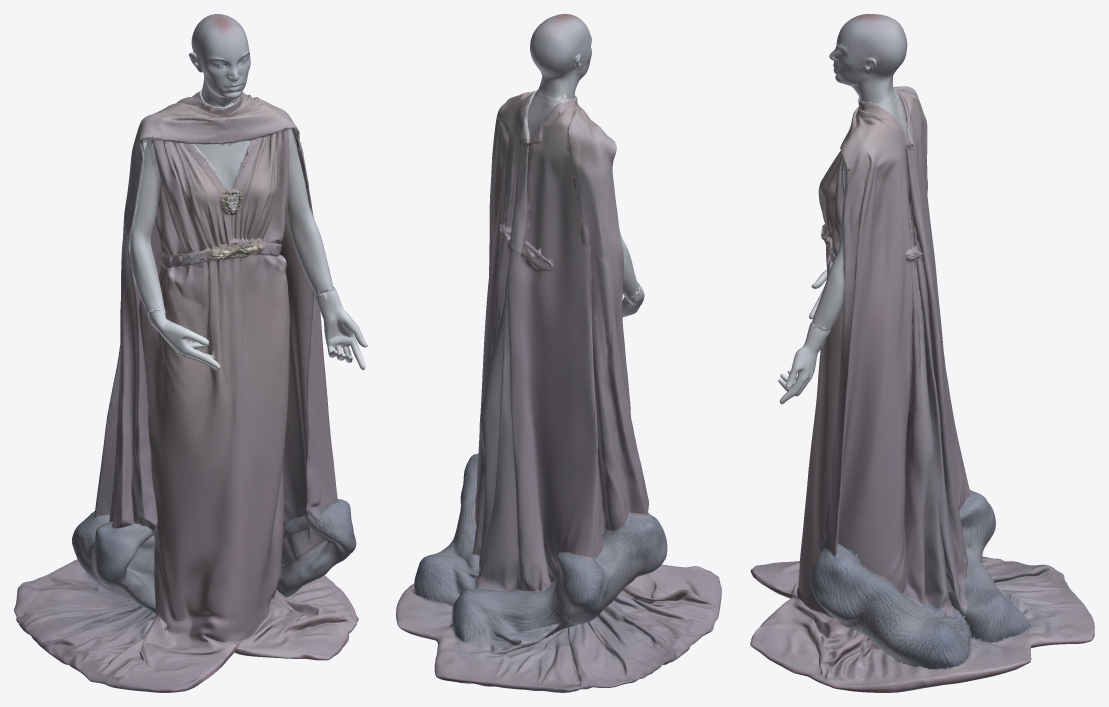
3 renders of one model, left to right at view 1: azimuth 30°, elevation 25°; view 2: azimuth 150°, elevation 25°; view 3: azimuth 270°, elevation 25°, orthographic. The views are drawn at different scales.
Visible parts, largest first — view 1: tripo_node_698bb895-8e98-4b05-965d-c186c6d986a9; view 2: tripo_node_698bb895-8e98-4b05-965d-c186c6d986a9; view 3: tripo_node_698bb895-8e98-4b05-965d-c186c6d986a9.
Boxes of the visible parts, <box> form: tripo_node_698bb895-8e98-4b05-965d-c186c6d986a9: <box>14,14,367,692</box>; tripo_node_698bb895-8e98-4b05-965d-c186c6d986a9: <box>396,14,721,692</box>; tripo_node_698bb895-8e98-4b05-965d-c186c6d986a9: <box>750,14,1094,692</box>.
Bounding box in the file's own units: 0.4612 × 0.9792 × 0.4949.
Materials: 1 (1 with a texture image).
